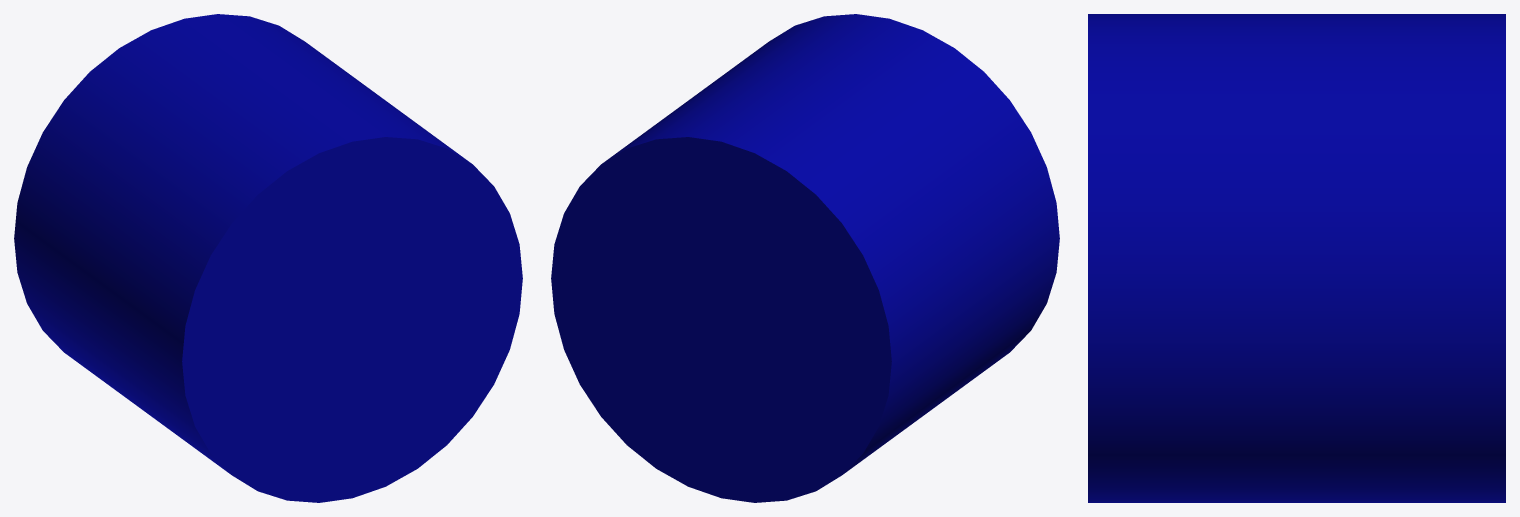
Rendered from SpinAll.fbx.
3 views of the same model, side by side, from view 1: azimuth 30°, elevation 25°; view 2: azimuth 150°, elevation 25°; view 3: azimuth 270°, elevation 25° (orthographic). The views are drawn at different scales.
Parts seen in each view (by area): view 1: spinAll; view 2: spinAll; view 3: spinAll.
Part boxes in pixels (left/top/right/bottom): spinAll: left=14, top=14, right=522, bottom=502; spinAll: left=551, top=14, right=1059, bottom=502; spinAll: left=1088, top=14, right=1505, bottom=502.
Bounding box in the file's own units: 147 × 147 × 126.
